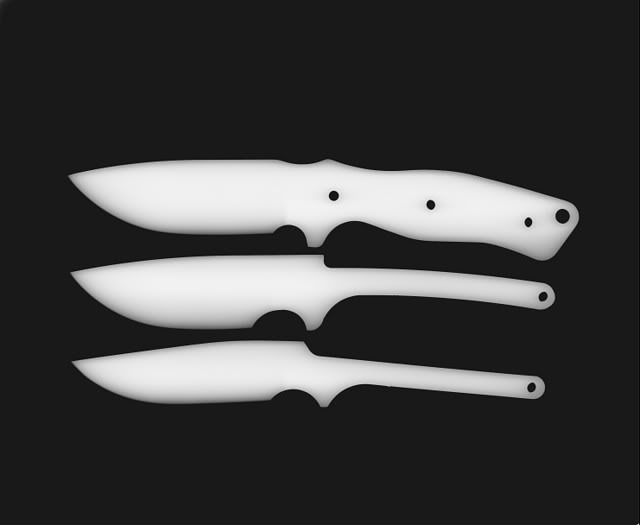knife: (55, 154, 582, 263), (64, 334, 565, 423), (63, 250, 559, 333)
